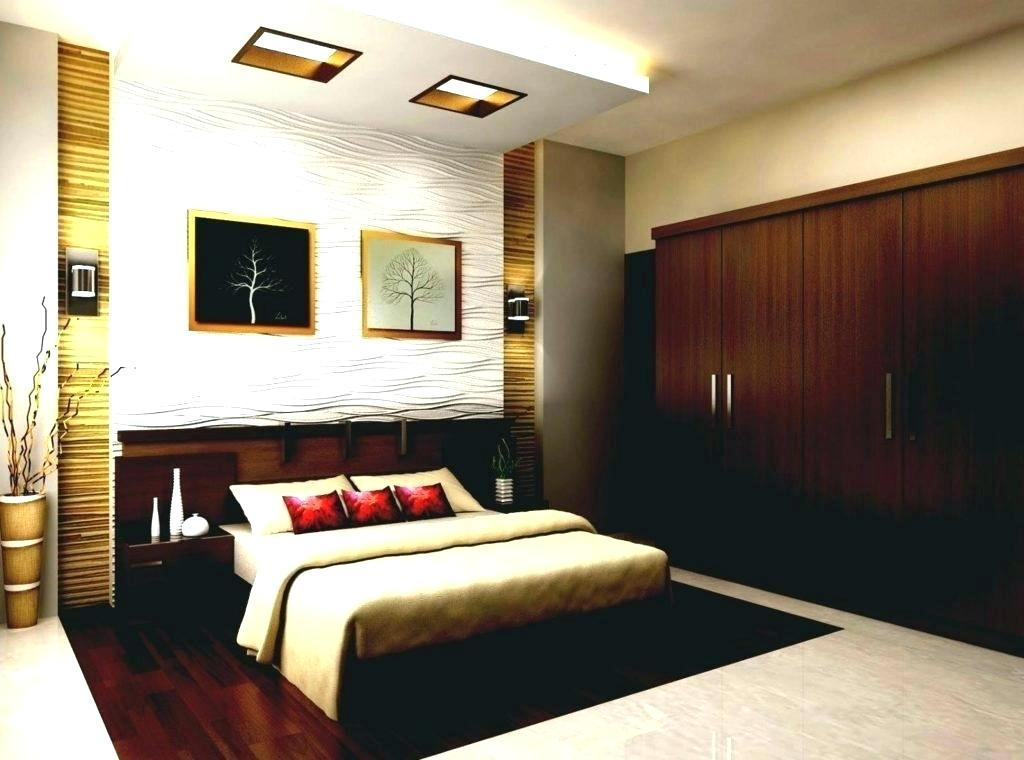bed: (182, 410, 702, 672)
